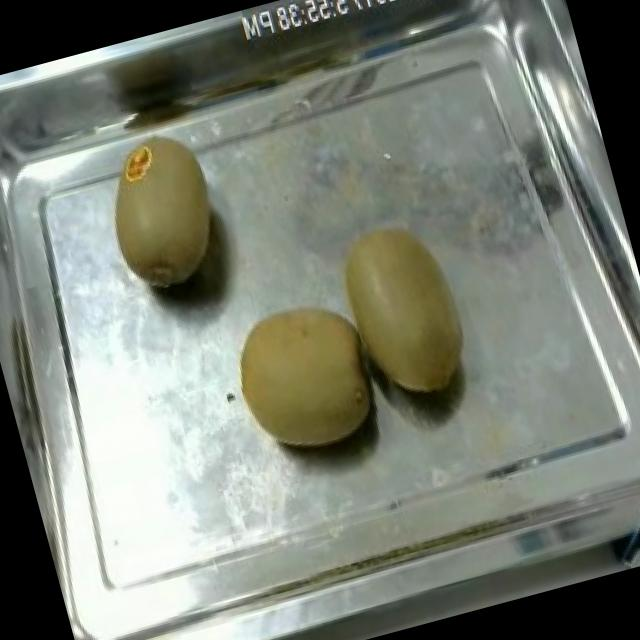Fruit: (323, 200, 492, 421), (212, 282, 388, 472), (80, 114, 244, 310)
